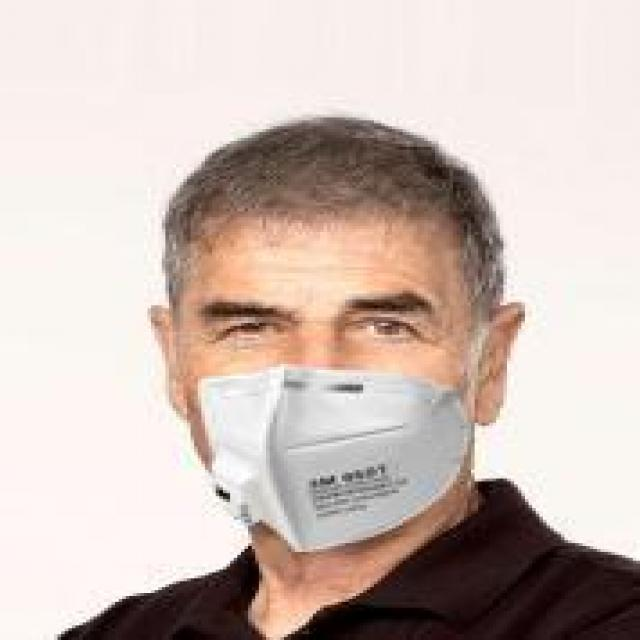mask: (133, 111, 532, 552)
